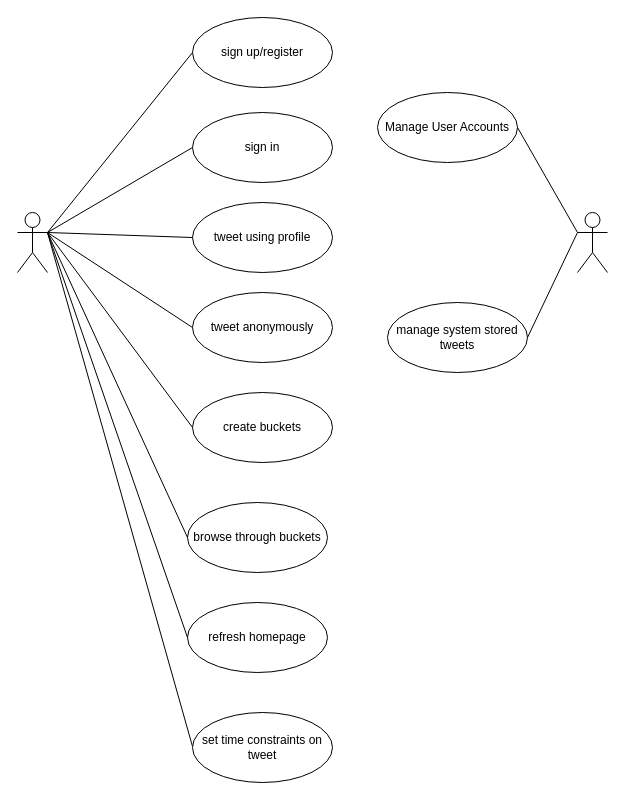
This 627x800 diagram has some shape labels left out. Each missing label, with the centre of its shape:
Admin: (592,242)
User: (32,242)
